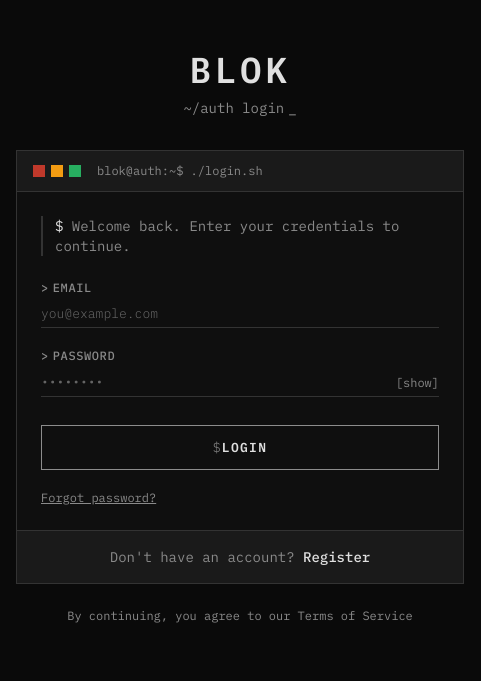
Test: mode switch › switches to register mode showing username and confirm-password fields
This screenshot has width=481, height=681.
Click the button "Register" at coordinates (337, 557), box x1=303 y1=547 x2=370 y2=567
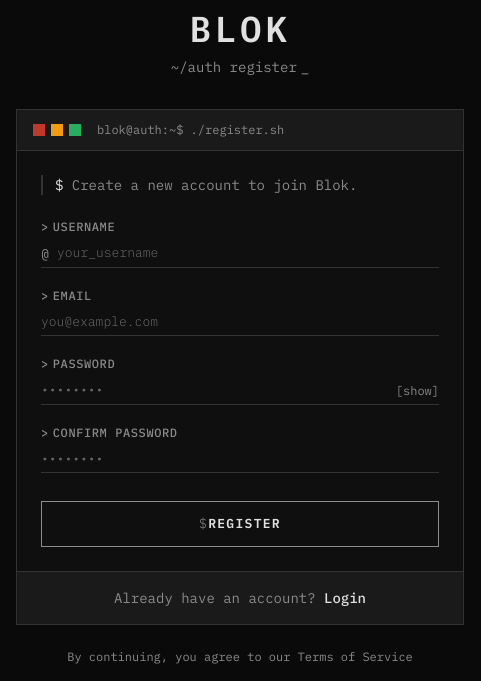
Expected: the field with placeholder "your_username" is shown, x1=41 y1=239 x2=439 y2=268
Expected: the number of password fields with placeholder "••••••••" is 2, x1=41 y1=376 x2=439 y2=405; x1=41 y1=445 x2=439 y2=473
